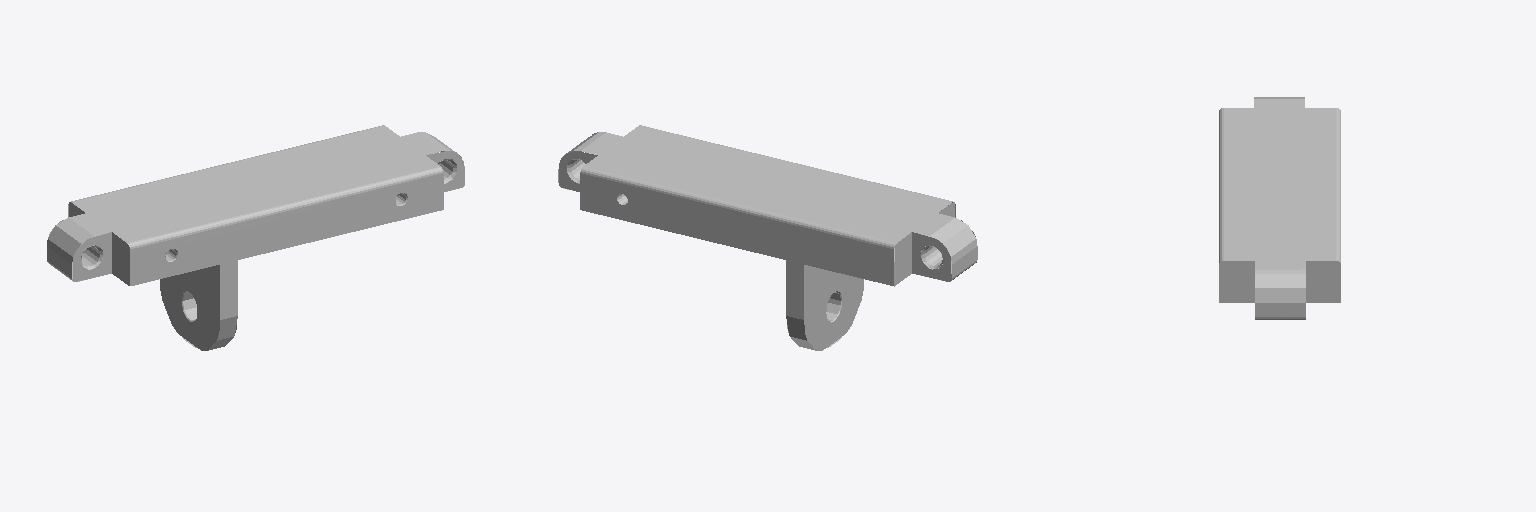
File: handr_finger_ring1_joint.obj
3 renders of one model, left to right at view 1: azimuth 30°, elevation 25°; view 2: azimuth 150°, elevation 25°; view 3: azimuth 270°, elevation 25°, orthographic.
Size of the model in its own units: 0.0445 by 0.0155 by 0.012.